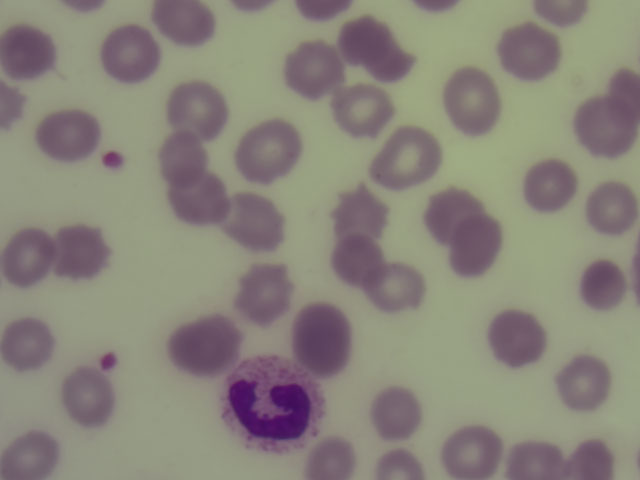Platelets: (98, 147, 127, 173), (97, 348, 122, 375)
RBC: (570, 90, 640, 156), (443, 64, 505, 135), (166, 316, 237, 373), (294, 302, 349, 375), (495, 22, 562, 80), (31, 108, 100, 162), (373, 129, 437, 187), (236, 121, 302, 177), (151, 1, 217, 48), (370, 261, 423, 314), (329, 230, 382, 283), (332, 185, 385, 238), (451, 218, 504, 271), (425, 187, 478, 240), (443, 427, 496, 480), (370, 387, 423, 440), (558, 358, 611, 411), (491, 310, 544, 363), (575, 259, 628, 312), (587, 182, 640, 235), (524, 159, 577, 212), (238, 266, 291, 319), (228, 193, 281, 246), (172, 174, 225, 227), (157, 129, 210, 182), (170, 80, 223, 133), (2, 427, 55, 480), (61, 374, 114, 427), (2, 317, 55, 370), (56, 223, 109, 276), (336, 82, 389, 135), (288, 43, 341, 96), (338, 12, 391, 65), (101, 26, 154, 79), (1, 26, 53, 79), (504, 435, 565, 480), (1, 231, 52, 284), (303, 434, 355, 480), (567, 435, 618, 480), (372, 445, 423, 480), (531, 1, 591, 26), (295, 1, 348, 24), (1, 79, 25, 129)
WBC: (224, 356, 314, 456)
